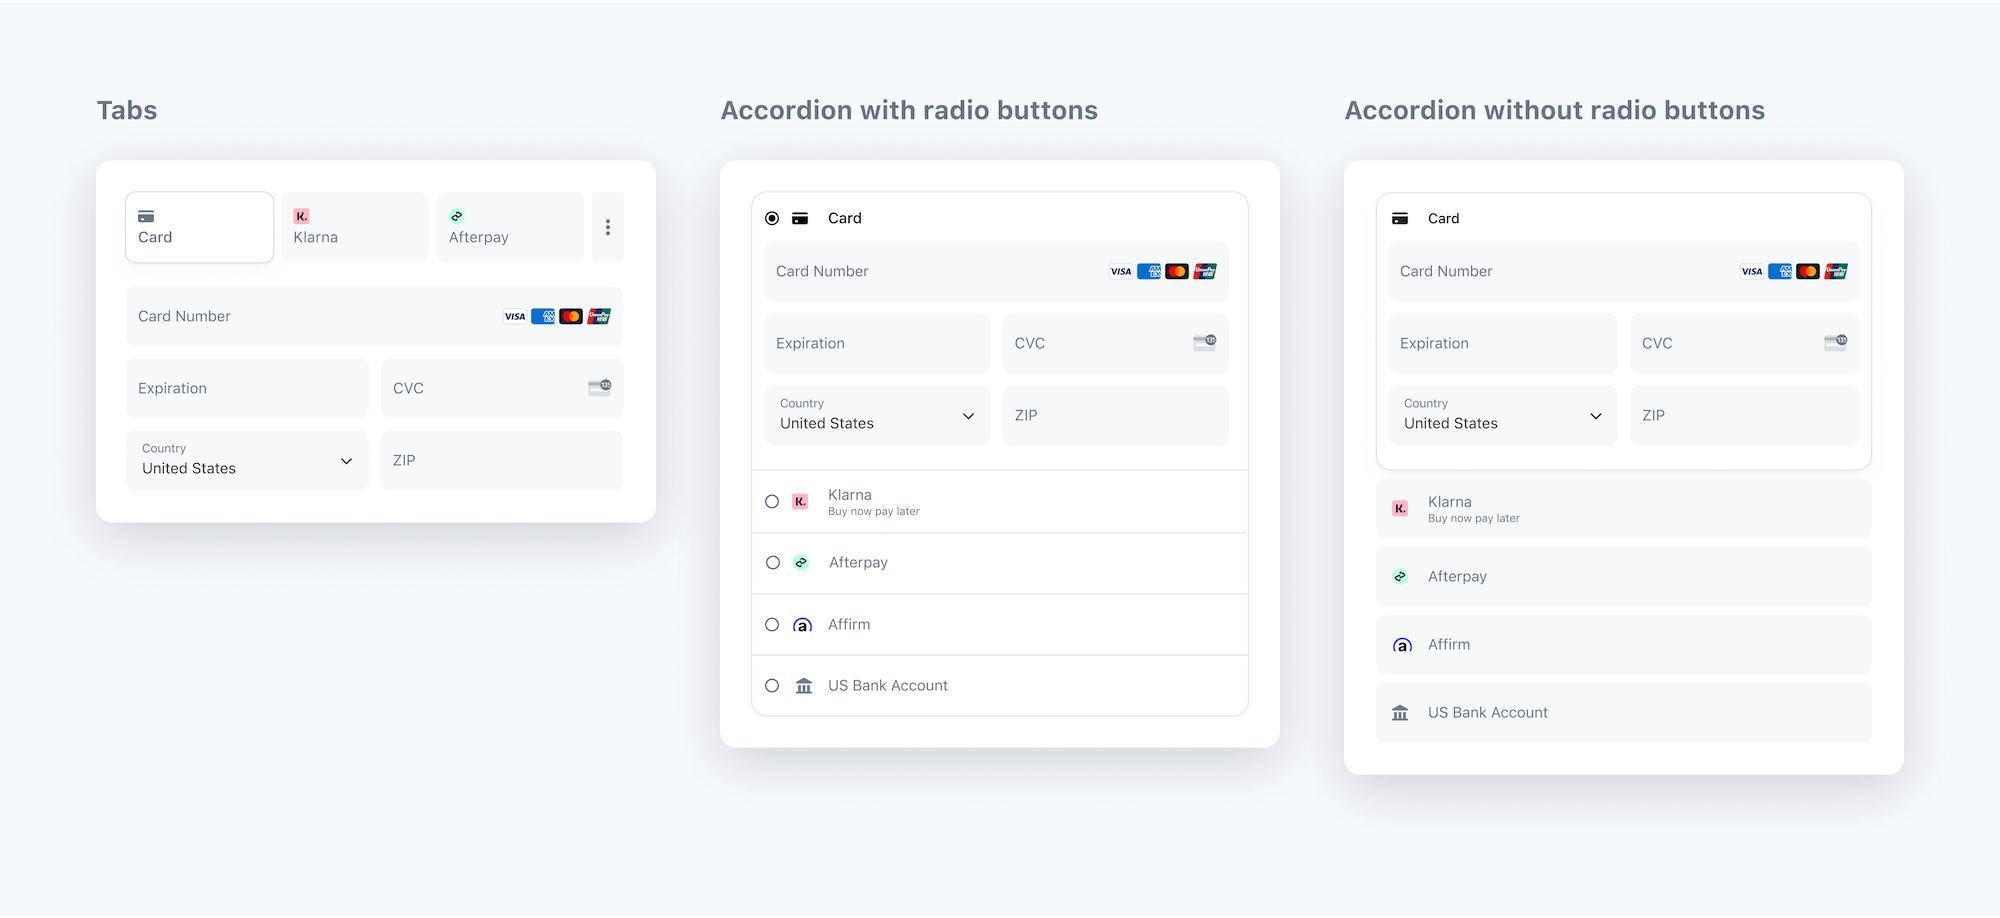button: (1378, 611, 1872, 673), (1379, 479, 1872, 538), (1379, 548, 1872, 606), (1378, 687, 1875, 739), (283, 193, 430, 264), (441, 194, 584, 265), (128, 193, 274, 261)
dropdown: (115, 432, 369, 500), (767, 389, 994, 448), (1389, 388, 1619, 445)
icon: (602, 218, 617, 240)
input: (117, 277, 628, 356), (1386, 238, 1869, 303), (761, 237, 1239, 302), (376, 428, 634, 499), (379, 357, 631, 425), (1386, 314, 1625, 382), (119, 360, 372, 423), (999, 388, 1239, 453), (761, 314, 997, 377), (1631, 310, 1869, 372), (1004, 317, 1240, 375), (1633, 388, 1866, 445)
label: (823, 484, 923, 523), (827, 677, 954, 695), (828, 555, 894, 576), (827, 616, 872, 634)
radio: (764, 674, 784, 696), (767, 615, 784, 637), (765, 553, 783, 574), (765, 491, 782, 513)
